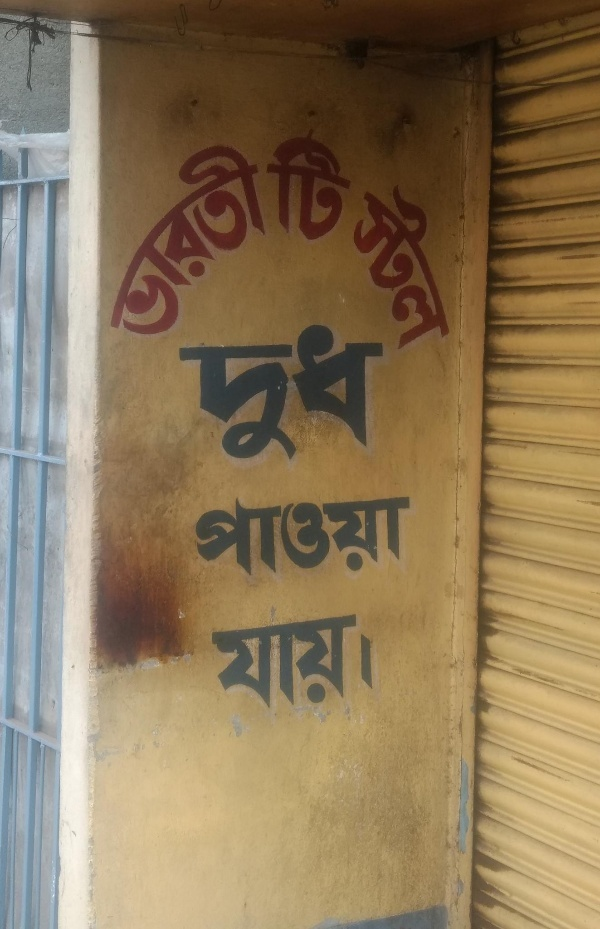text: (81, 114, 96, 377), (97, 114, 112, 377), (113, 114, 128, 377), (129, 114, 144, 377), (145, 114, 160, 377), (161, 114, 176, 377), (177, 114, 192, 377), (193, 114, 208, 377), (209, 114, 224, 377), (225, 114, 240, 377), (241, 114, 256, 377), (257, 114, 272, 377), (353, 116, 368, 362), (369, 116, 384, 362), (385, 116, 400, 362), (401, 116, 416, 362), (417, 116, 432, 362), (433, 116, 448, 362), (338, 116, 352, 362), (177, 321, 192, 465), (193, 321, 208, 465), (209, 321, 224, 465), (225, 321, 240, 465), (241, 321, 256, 465), (257, 321, 272, 465), (273, 321, 288, 465), (289, 321, 304, 465), (305, 321, 320, 465), (321, 321, 336, 465), (337, 321, 352, 465), (353, 321, 368, 465), (369, 321, 384, 465), (273, 124, 288, 246), (289, 124, 304, 246), (305, 124, 320, 246), (321, 124, 336, 246), (337, 124, 352, 246), (449, 116, 456, 362), (209, 604, 224, 716), (225, 604, 240, 716), (241, 604, 256, 716), (257, 604, 272, 716), (273, 604, 288, 716), (289, 604, 304, 716), (305, 604, 320, 716), (321, 604, 336, 716), (337, 604, 352, 716), (353, 604, 368, 716), (353, 124, 366, 246), (74, 114, 80, 377), (273, 114, 279, 377), (260, 124, 272, 246), (195, 604, 208, 716), (193, 491, 208, 580), (209, 491, 224, 580), (225, 491, 240, 580), (241, 491, 256, 580), (257, 491, 272, 580), (273, 491, 288, 580), (289, 491, 304, 580), (305, 491, 320, 580), (321, 491, 336, 580), (337, 491, 352, 580), (353, 491, 368, 580), (369, 491, 384, 580), (385, 491, 400, 580), (401, 491, 415, 580), (369, 604, 378, 716), (385, 321, 391, 465), (175, 321, 176, 465)
